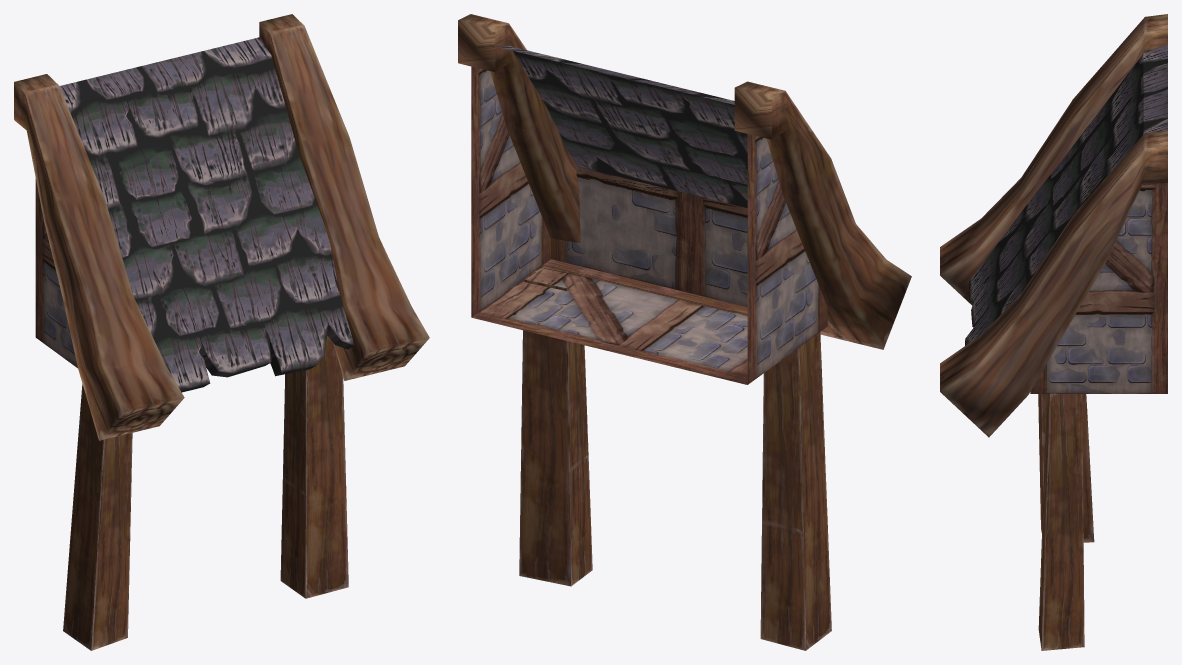
The model's file is wall_roof_pillar1x1.fbx.
The picture shows the model from 3 angles, left to right: view 1: azimuth 30°, elevation 25°; view 2: azimuth 150°, elevation 25°; view 3: azimuth 270°, elevation 25°; orthographic projection. The views are drawn at different scales.
Parts seen in each view (by area): view 1: wall_roof_pillar1x1; view 2: wall_roof_pillar1x1; view 3: wall_roof_pillar1x1.
Part boxes in pixels (x1,y1,x2,y2): wall_roof_pillar1x1: (14, 14, 429, 650); wall_roof_pillar1x1: (458, 14, 911, 650); wall_roof_pillar1x1: (940, 14, 1167, 650).
Size of the model in its own units: 187 by 306 by 124.
